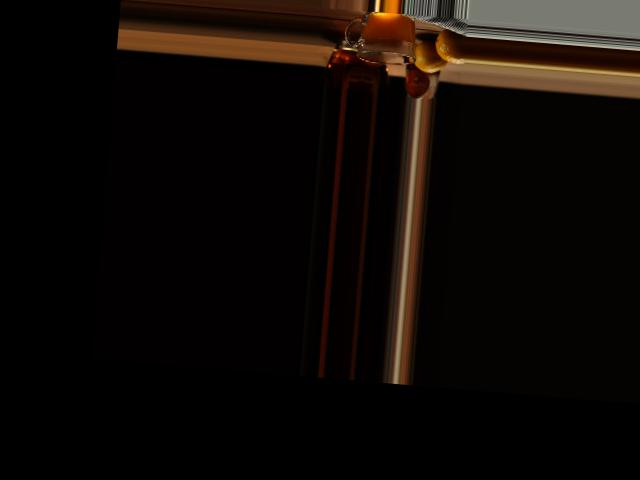lemon: (437, 30, 465, 60)
